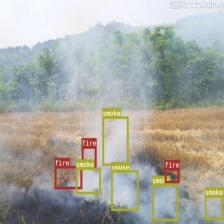fire: (54, 166, 82, 188), (81, 146, 96, 168), (164, 167, 179, 183)
smoke: (102, 116, 128, 165), (111, 170, 138, 210), (152, 184, 178, 220), (76, 167, 100, 194), (204, 195, 224, 219)
